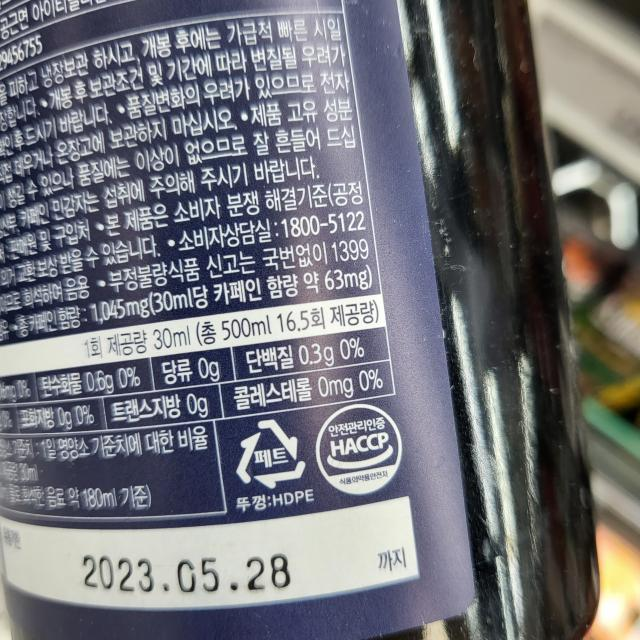PET: (233, 411, 307, 491)
